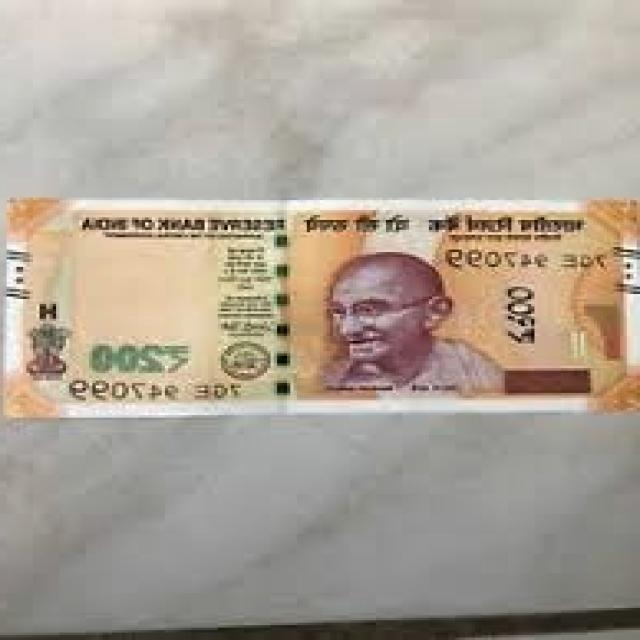200rs: (0, 198, 639, 418)
